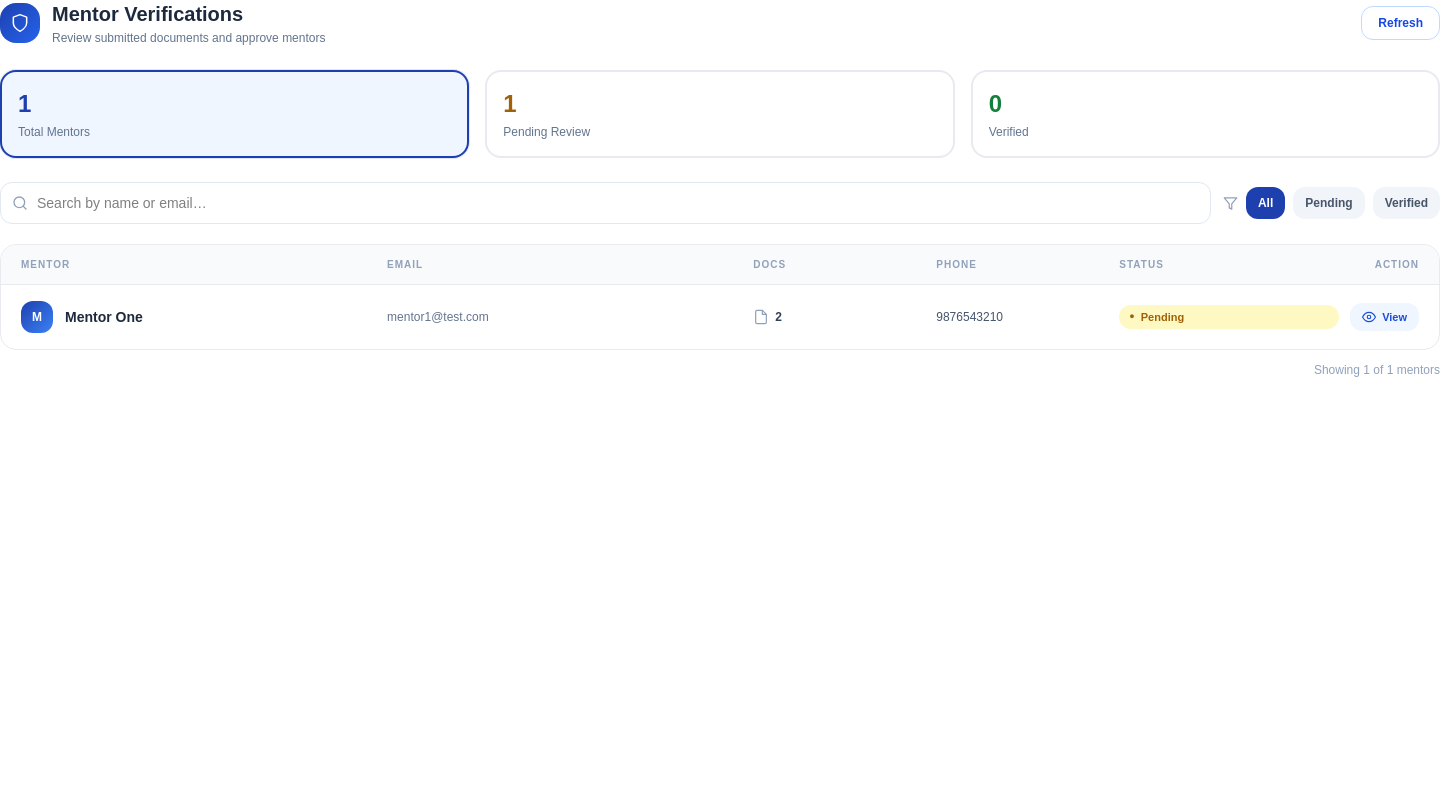
Scenario: AdminVerifications › DetailDrawer › closes via the close (X) button
This screenshot has width=1440, height=810.
Click the button "View" at (1385, 317), box [1350,303,1419,331]
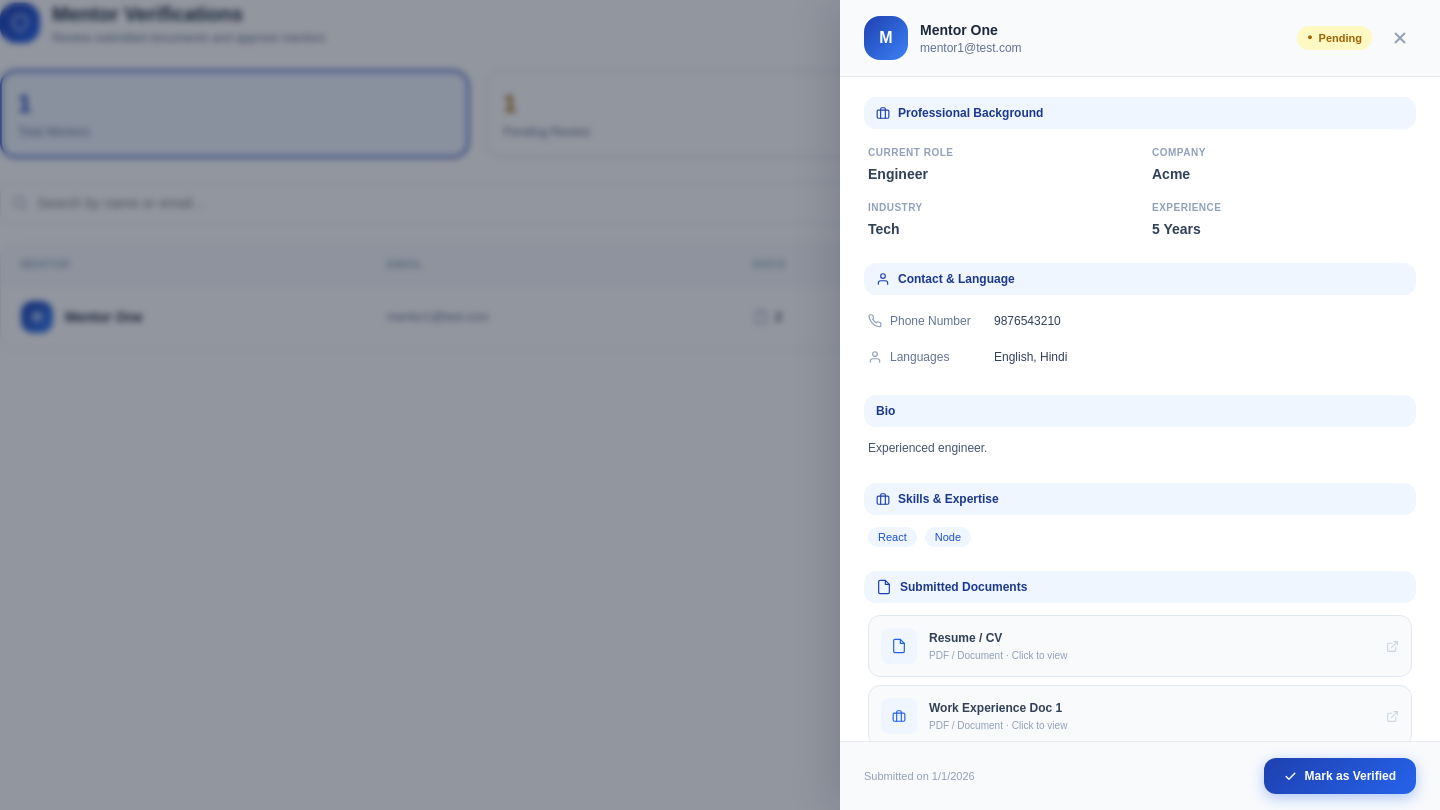
Click the 2nd button at (1400, 38), box [1384,22,1416,54]
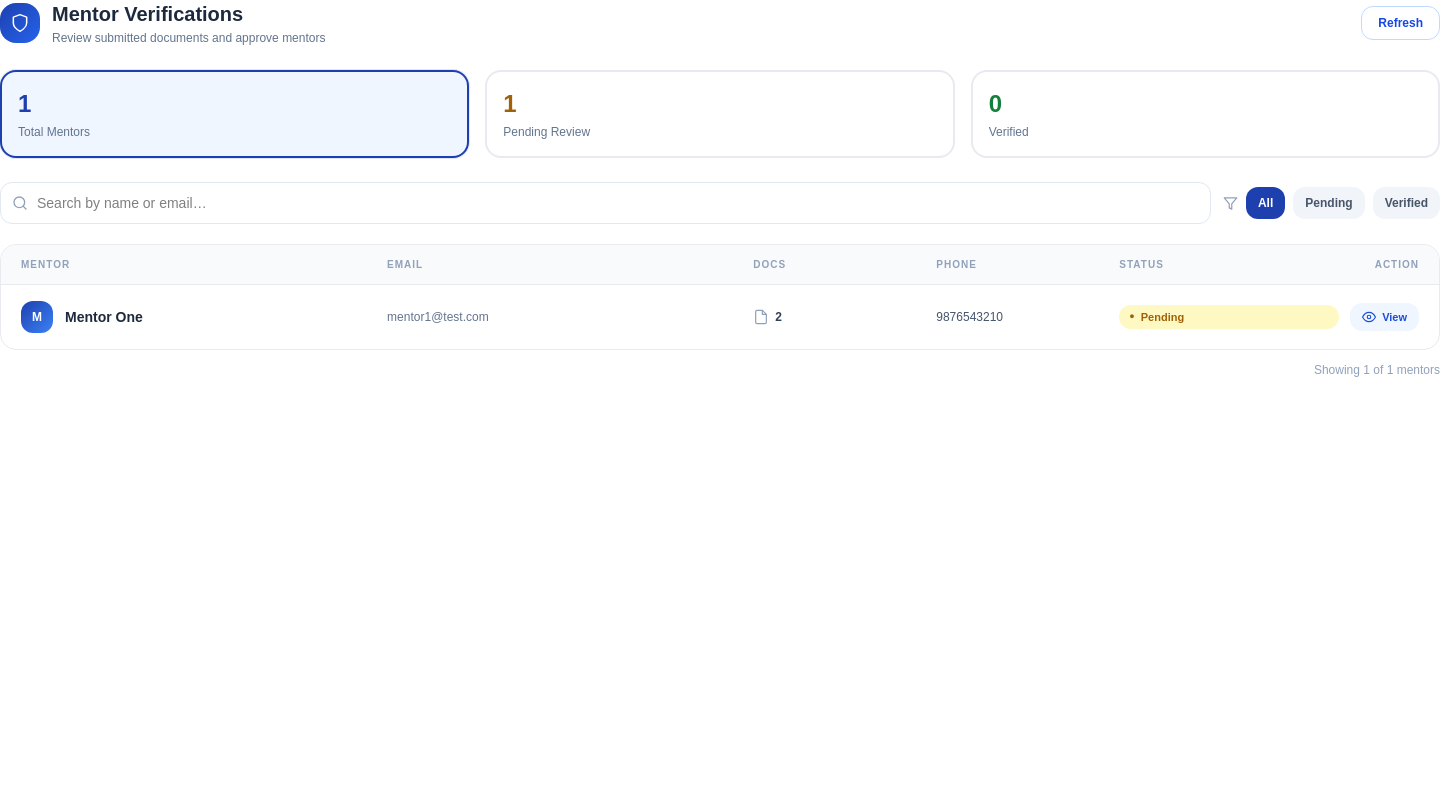
Result: the text "Professional Background" is gone
